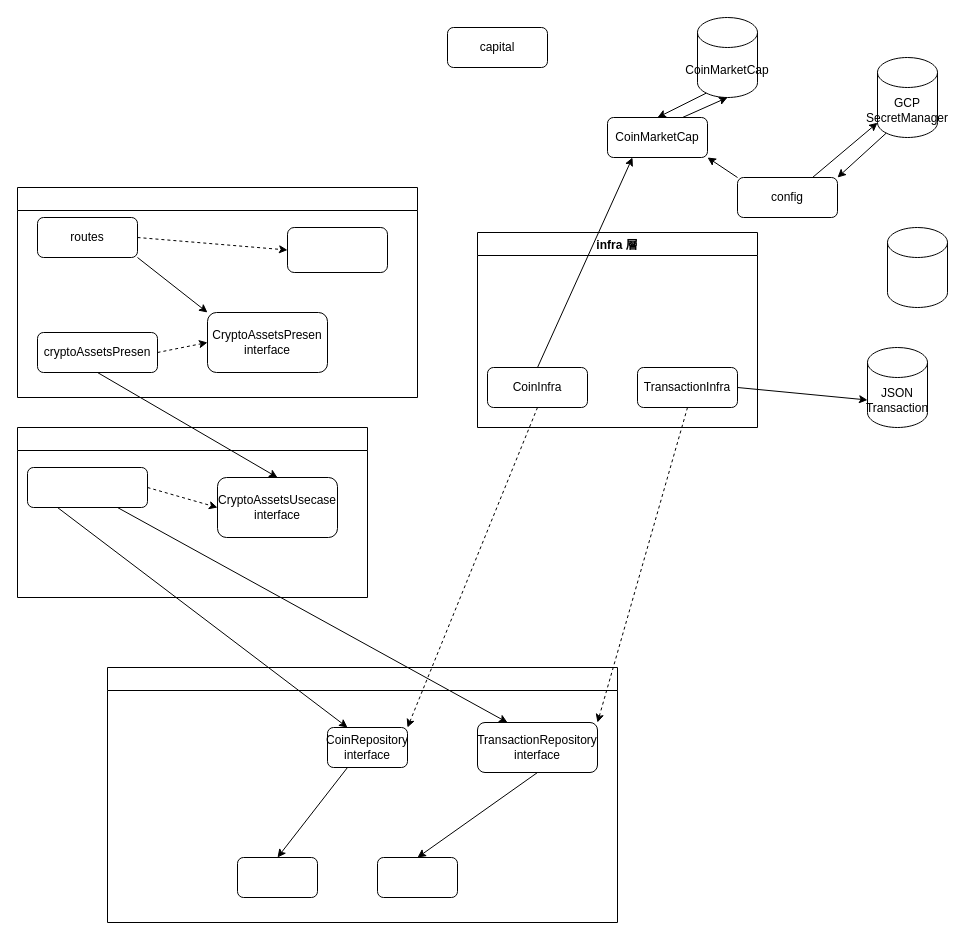
The diagram is 966 pixels wide and 940 high, and some of its shapes have lost their labels. The shapes that lost their labels are listed below. From the top down, each one's box as (x1, y1, x2, y2) in pixels, then its label:
(286, 226, 388, 272): Routes interface
(886, 226, 948, 308): JSON Key
(16, 186, 418, 398): Presentation 層
(26, 466, 148, 508): cryptoAssetsUsecase
(16, 426, 368, 598): Usecase 層
(106, 666, 618, 922): domain 層
(236, 856, 318, 898): Coin
(376, 856, 458, 898): Transaction
